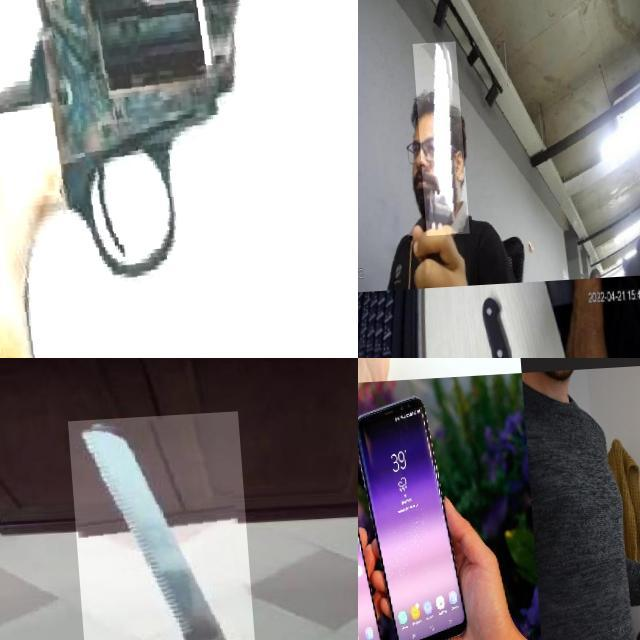-: (65, 415, 252, 640), (412, 43, 466, 237)
gun-knife-thesis - v11 Yolov5 augmented: (0, 0, 358, 358)
